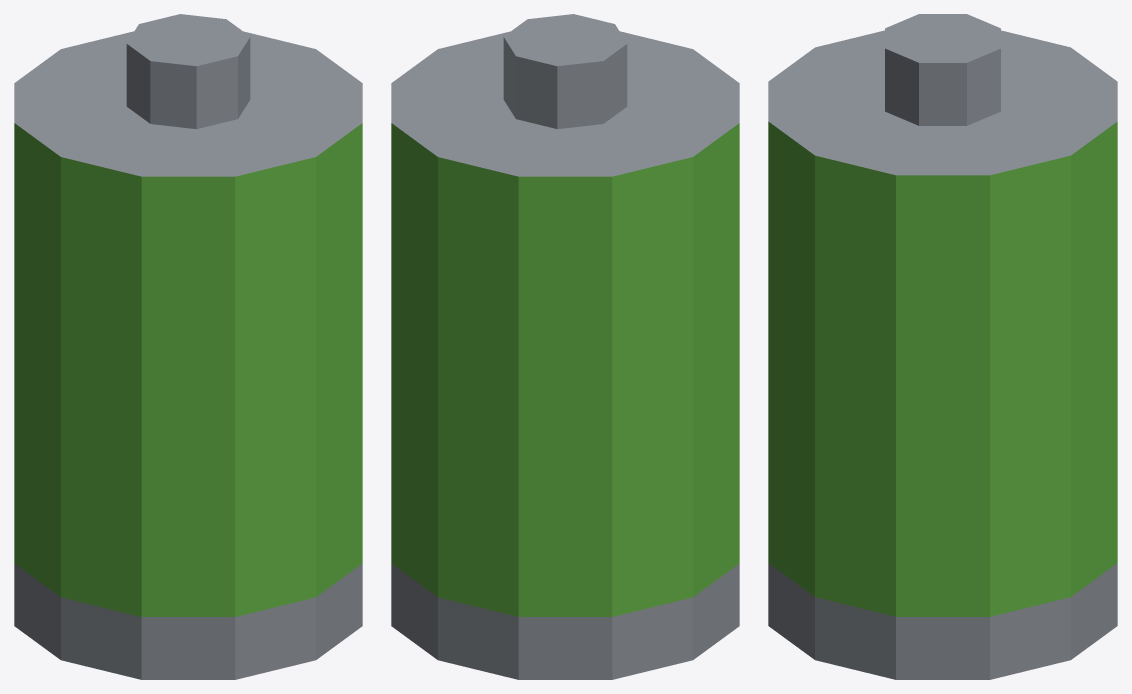
Rendered from battery.glb.
3 renders of one model, left to right at view 1: azimuth 30°, elevation 25°; view 2: azimuth 150°, elevation 25°; view 3: azimuth 270°, elevation 25°, orthographic.
Parts seen in each view (by area): view 1: battery; view 2: battery; view 3: battery.
Boxes of the visible parts, <box> form: battery: <box>14,14,362,679</box>; battery: <box>391,14,739,679</box>; battery: <box>768,14,1117,679</box>.
Bounding box in the file's own units: 0.5022 × 0.9 × 0.5022.
